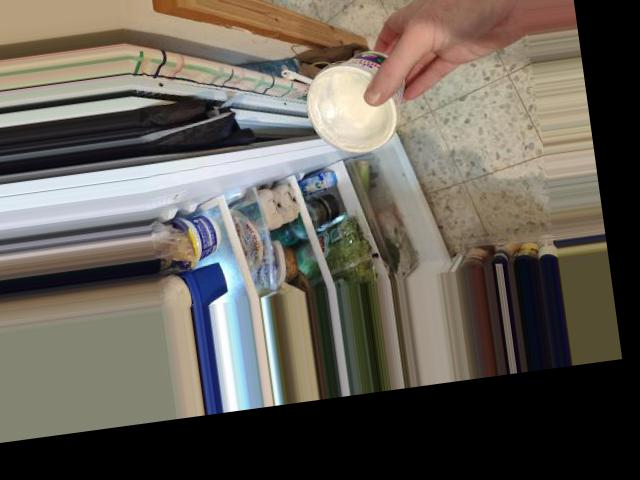cotage: (295, 32, 421, 161)
